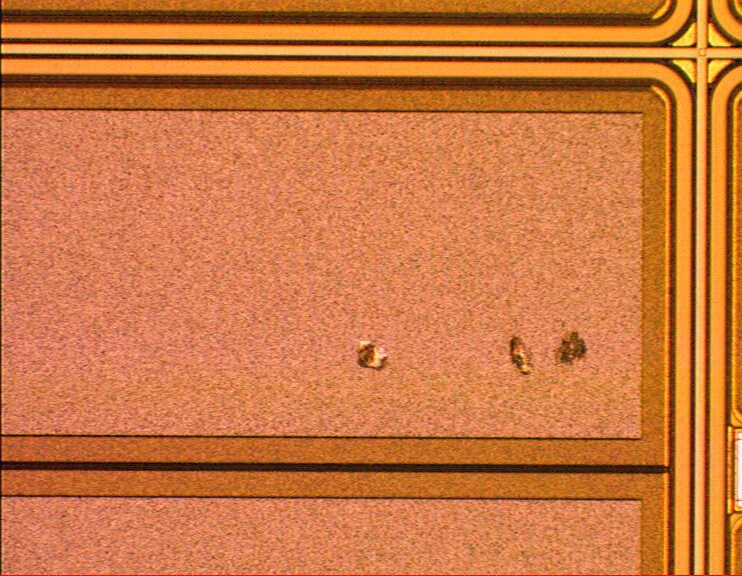SCRATCH: (347, 325, 594, 381)
